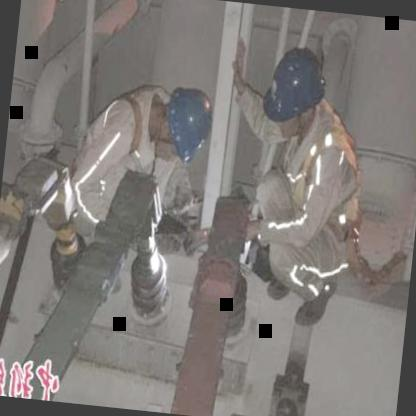helmet: (256, 42, 331, 146), (154, 77, 217, 171)
